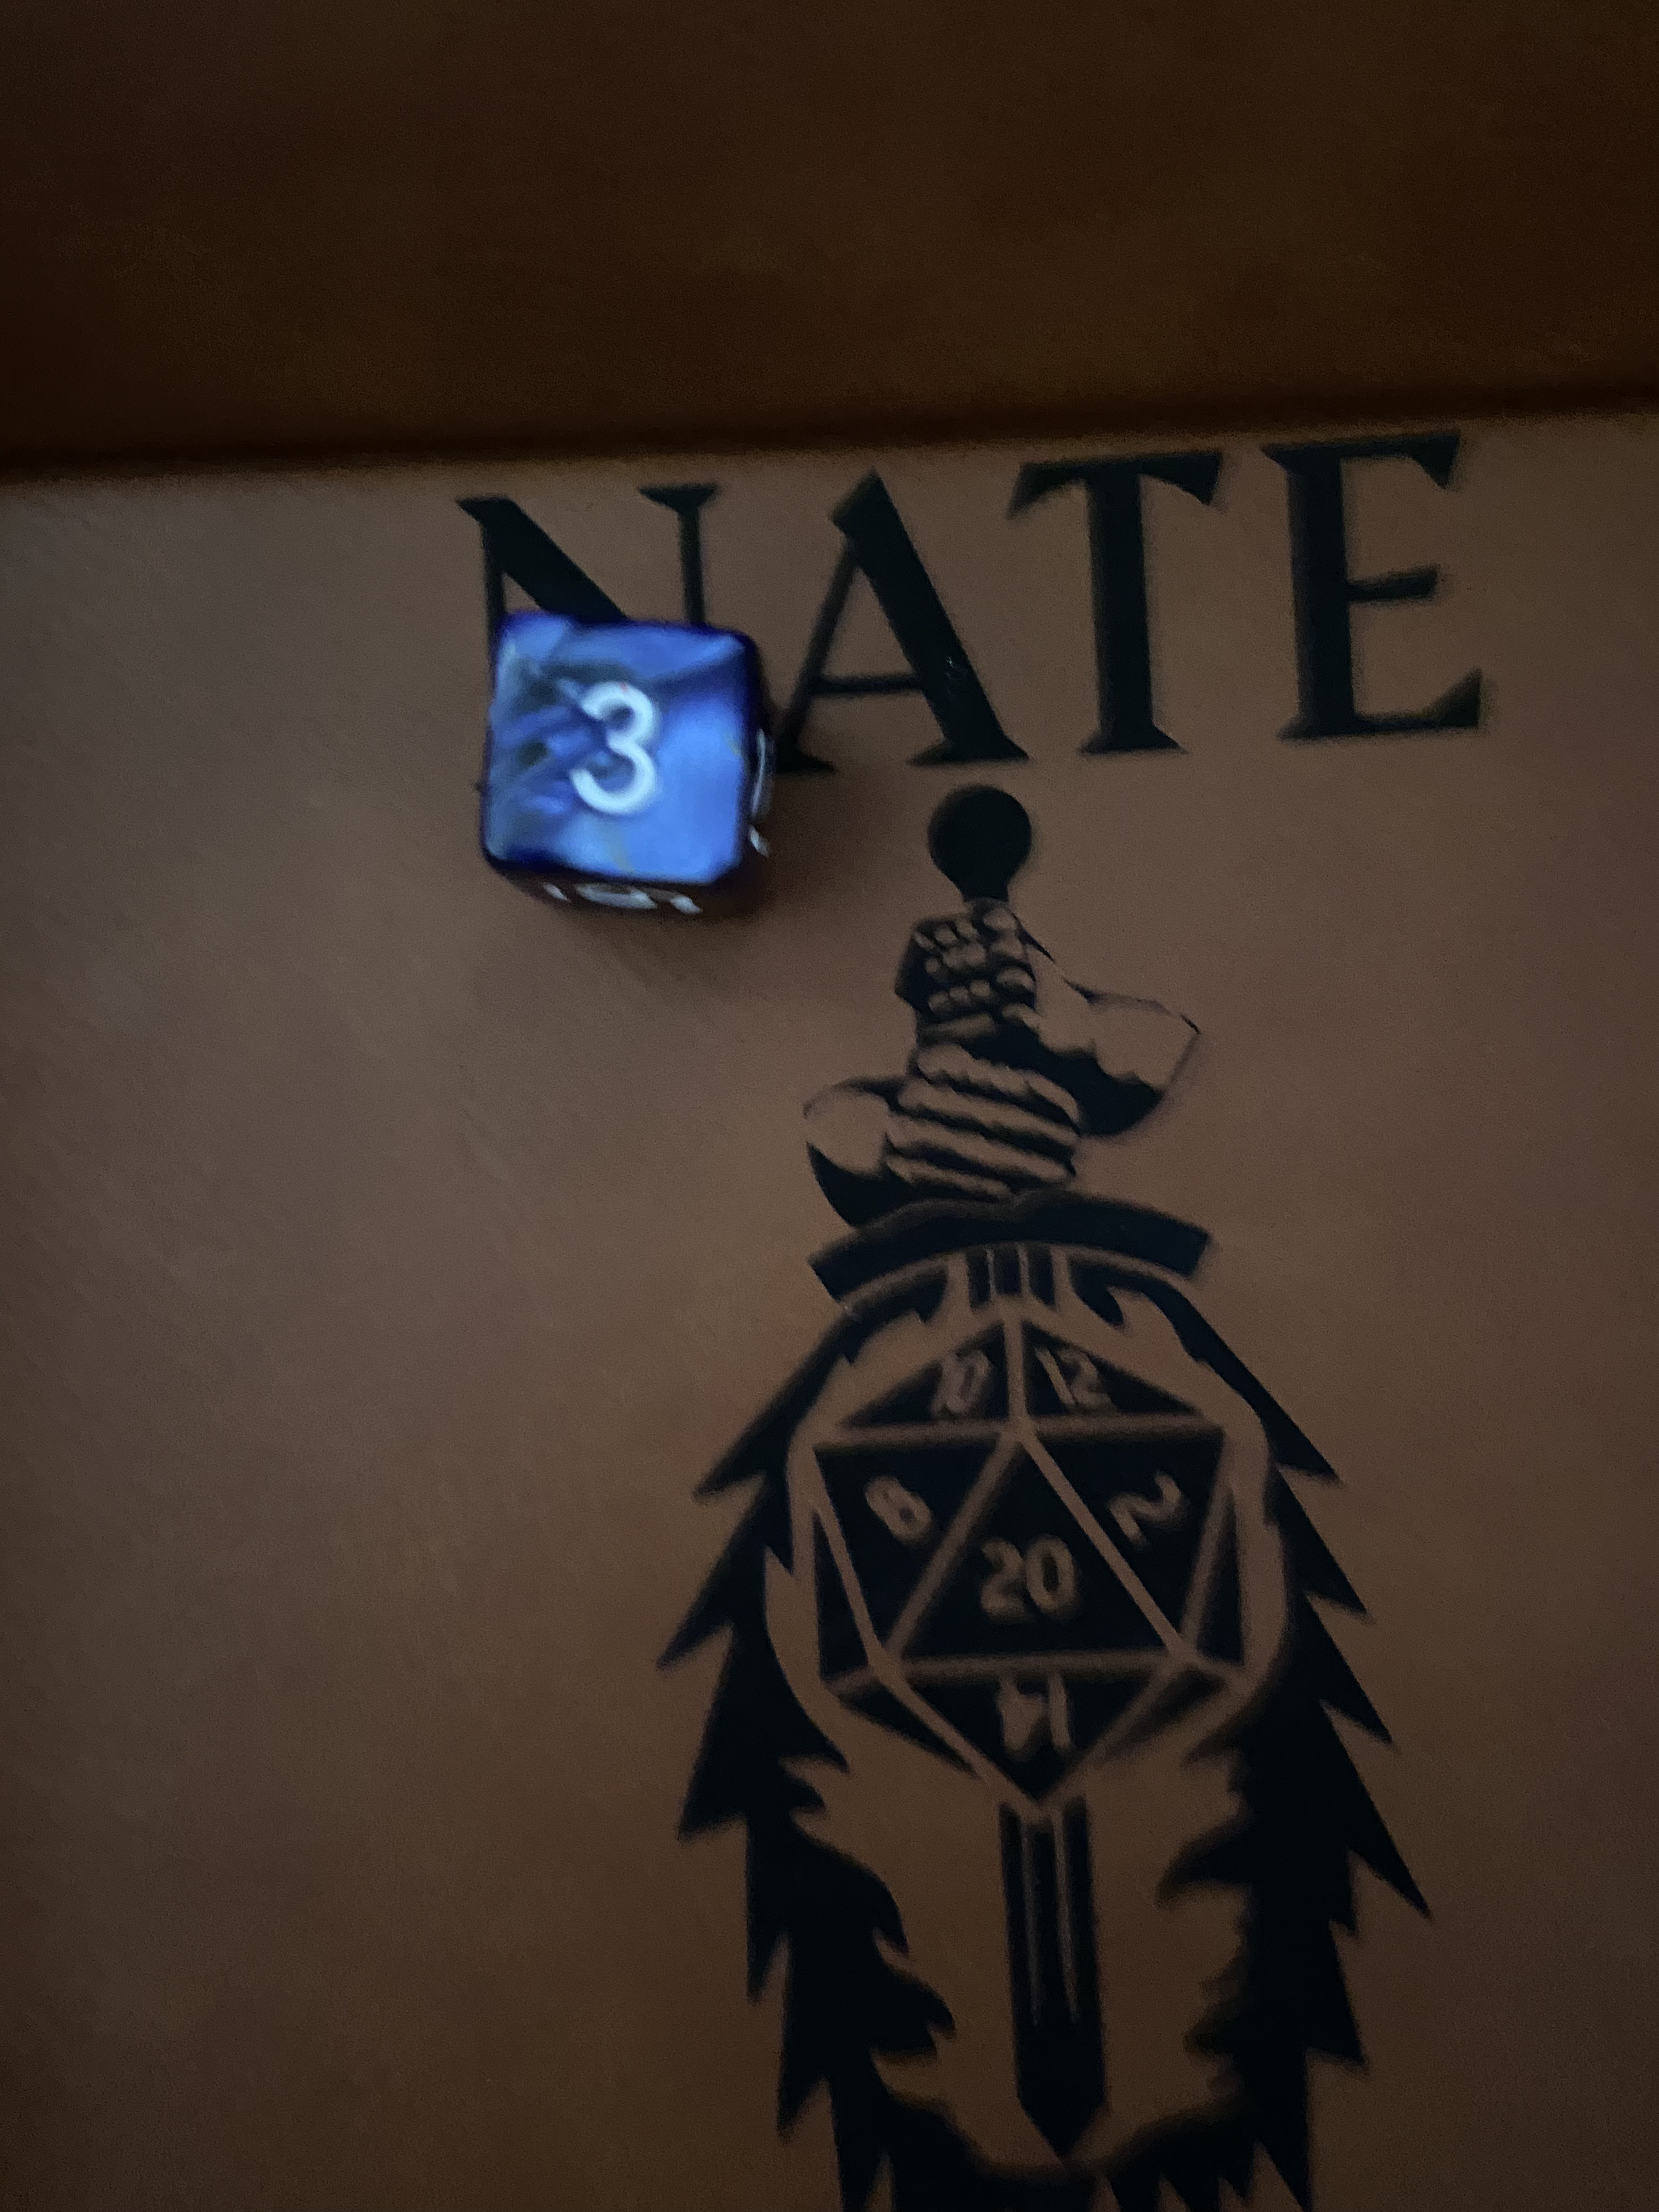three: (410, 559, 873, 979)
